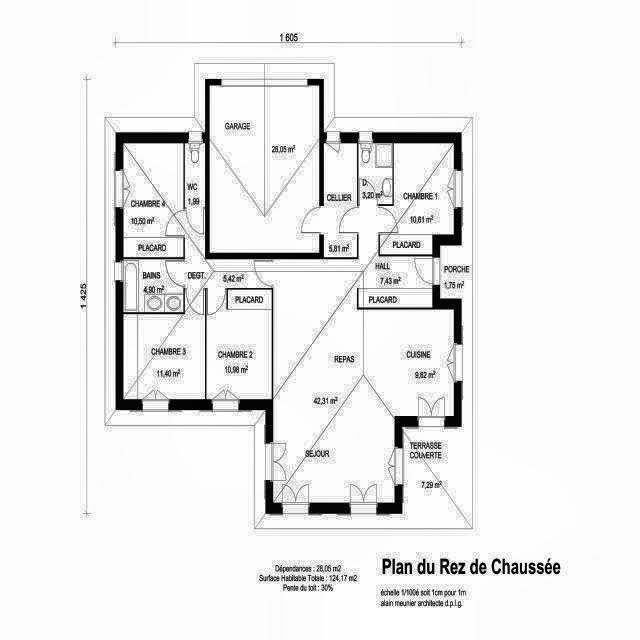room: (273, 205, 454, 503), (210, 85, 319, 253), (123, 290, 205, 399), (380, 143, 454, 255), (206, 289, 272, 399), (123, 143, 184, 257), (185, 209, 272, 288), (324, 143, 357, 257), (124, 259, 184, 312), (359, 143, 392, 204), (185, 143, 205, 207)
